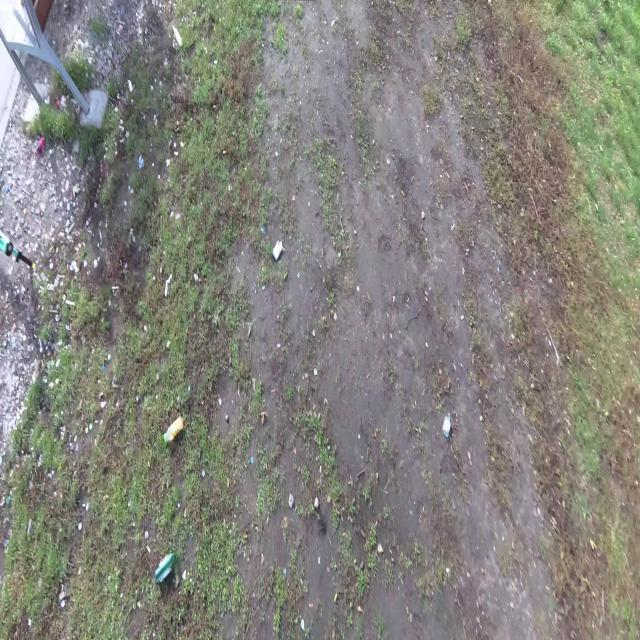rubbish: (154, 546, 176, 585), (163, 415, 184, 442), (171, 22, 185, 48), (269, 237, 284, 261), (33, 133, 47, 156), (441, 411, 451, 437)
